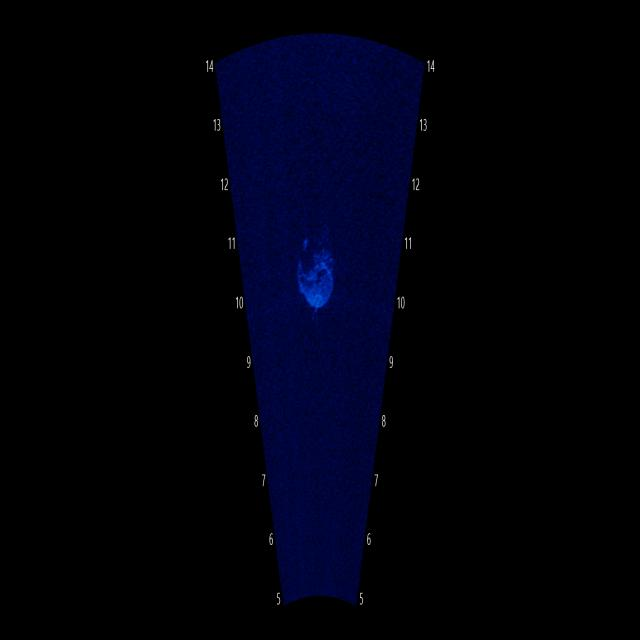circle: (290, 205, 342, 322)
